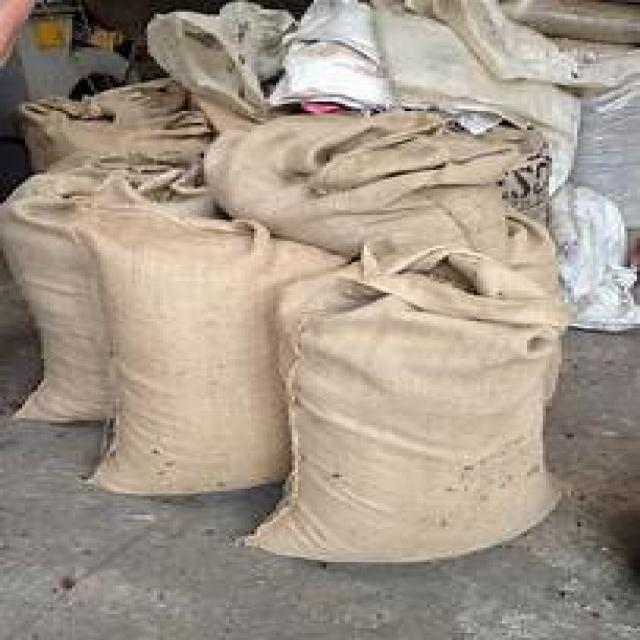gunny_bag: (236, 244, 575, 573), (67, 202, 345, 496), (3, 154, 205, 422)
